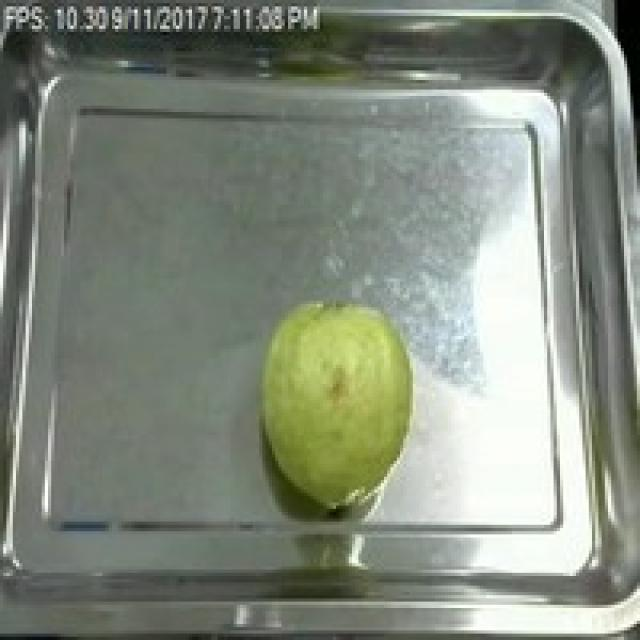Fruit: (247, 288, 426, 515)
